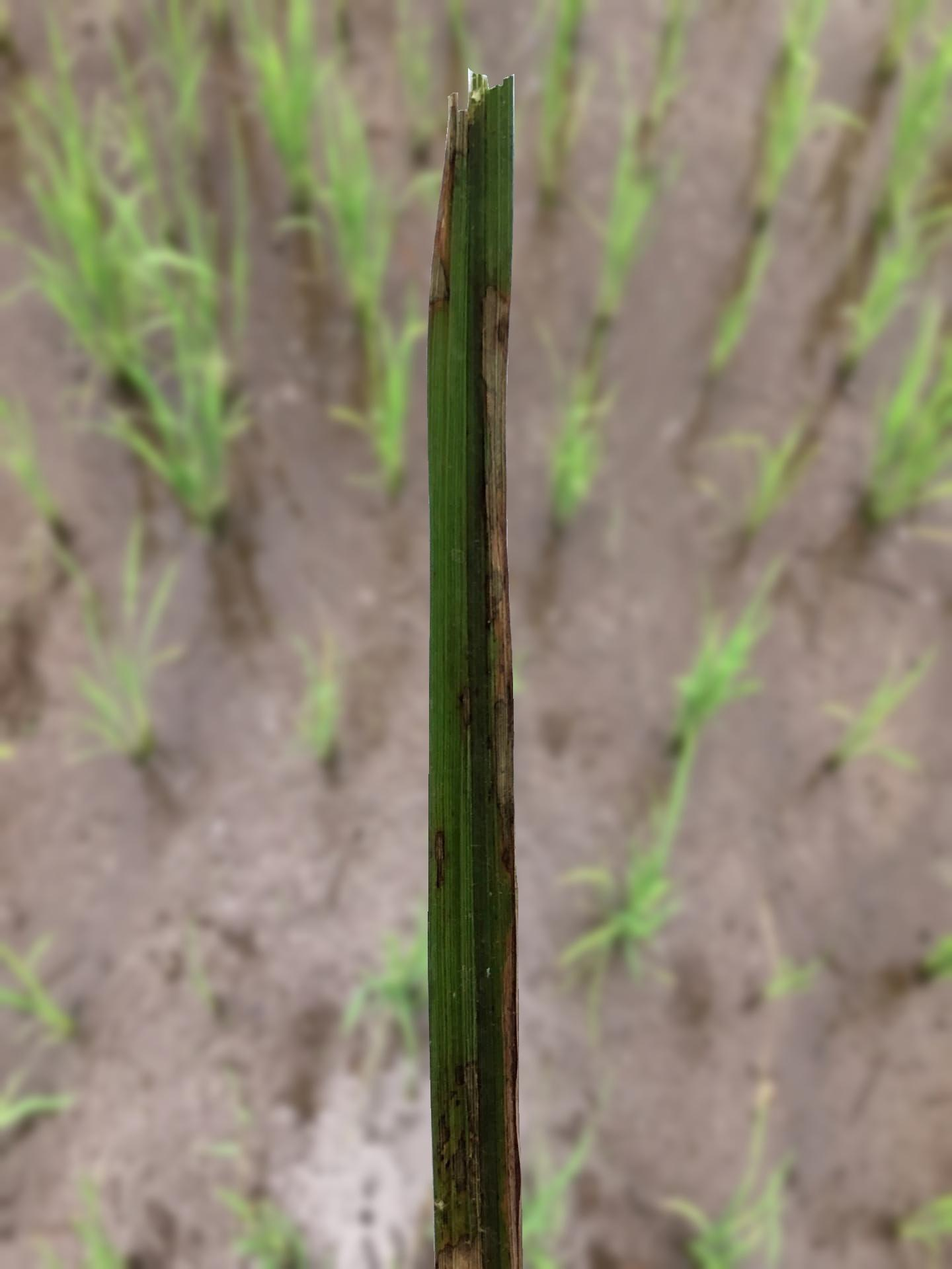BLB: (482, 284, 522, 1268)
LEAF: (426, 68, 522, 1268)
